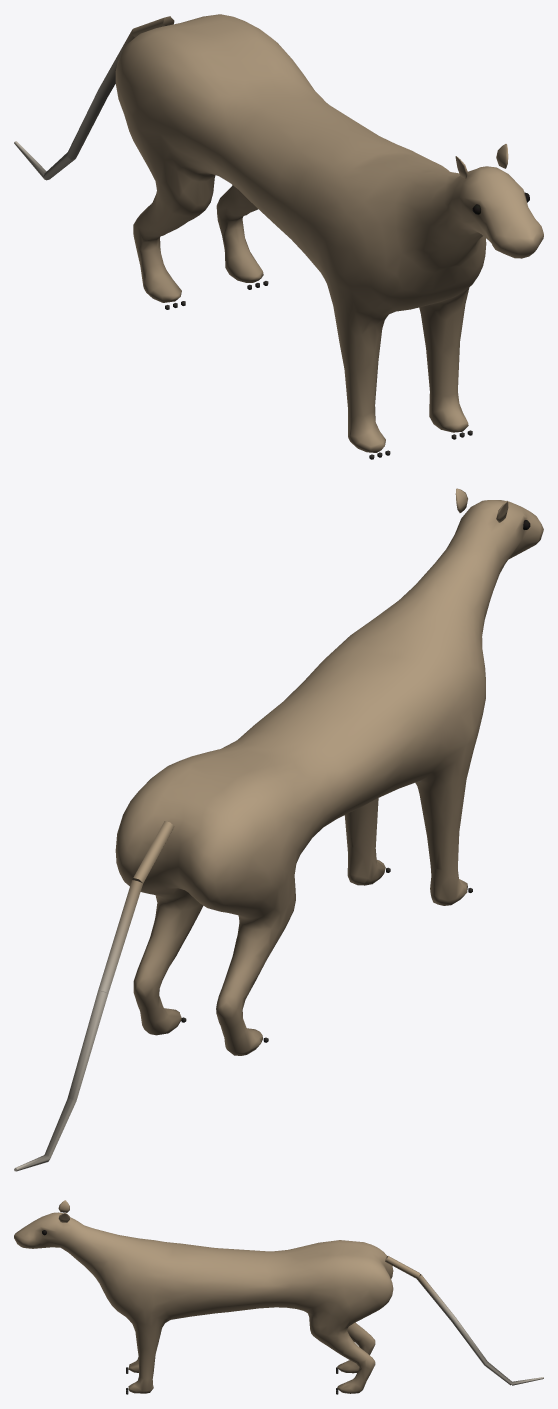
The model's file is puma.glb.
3 views of the same model, one above another, from view 1: azimuth 30°, elevation 25°; view 2: azimuth 150°, elevation 25°; view 3: azimuth 270°, elevation 25° (orthographic). The views are drawn at different scales.
Parts seen in each view (by area): view 1: lack; view 2: lack; view 3: lack.
Part boxes in pixels (left/top/right/bottom): lack: left=14, top=14, right=543, bottom=459; lack: left=14, top=488, right=543, bottom=1171; lack: left=14, top=1200, right=543, bottom=1394.
Bounding box in the file's own units: 0.4023 × 0.9207 × 2.47.
